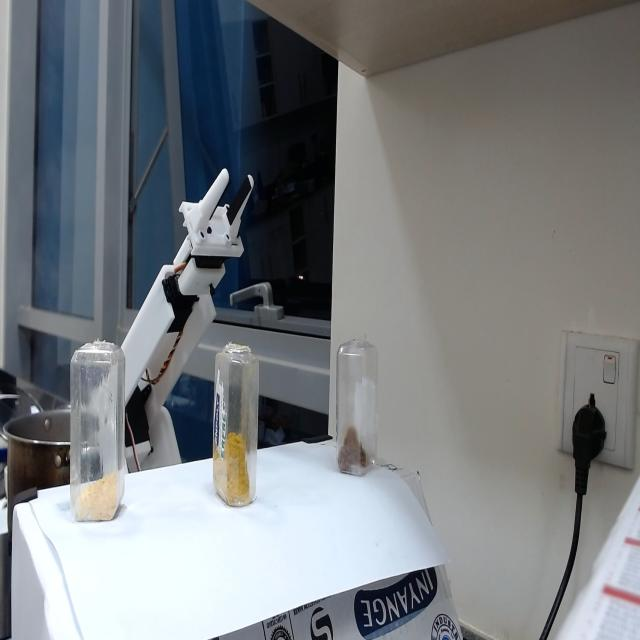cooking_pot: (2, 424, 67, 484)
curry_powder: (214, 441, 252, 508)
garlic_powder: (72, 488, 123, 522)
maggie_open: (339, 427, 368, 478)
